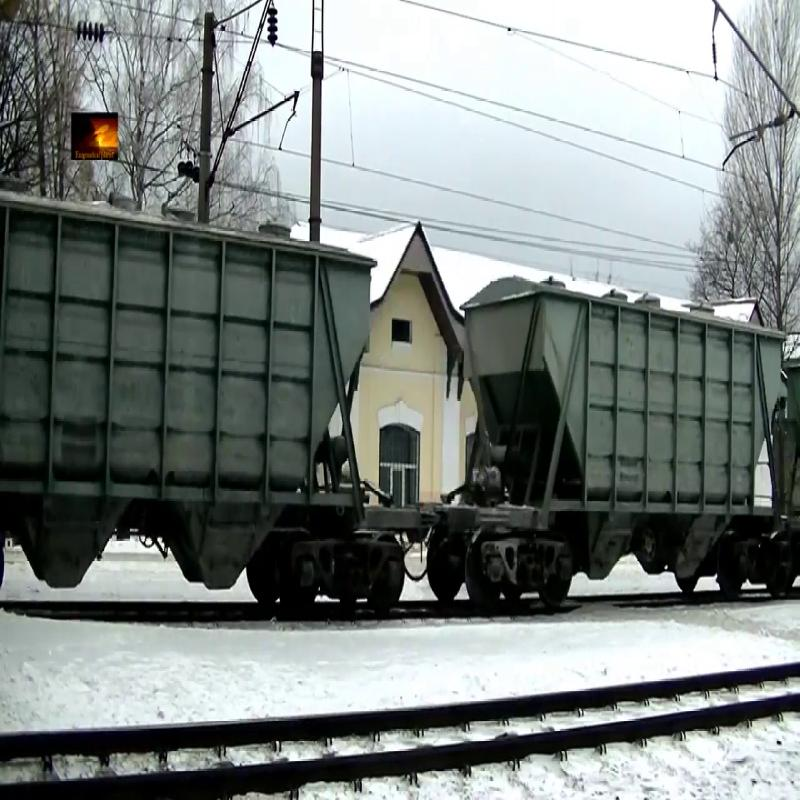train: (1, 203, 400, 611), (433, 277, 791, 629)
